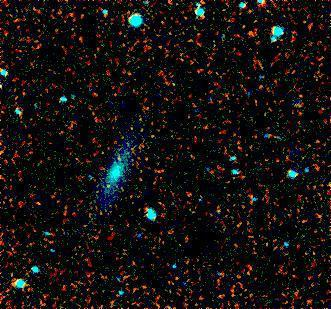star: (101, 153, 131, 183)
